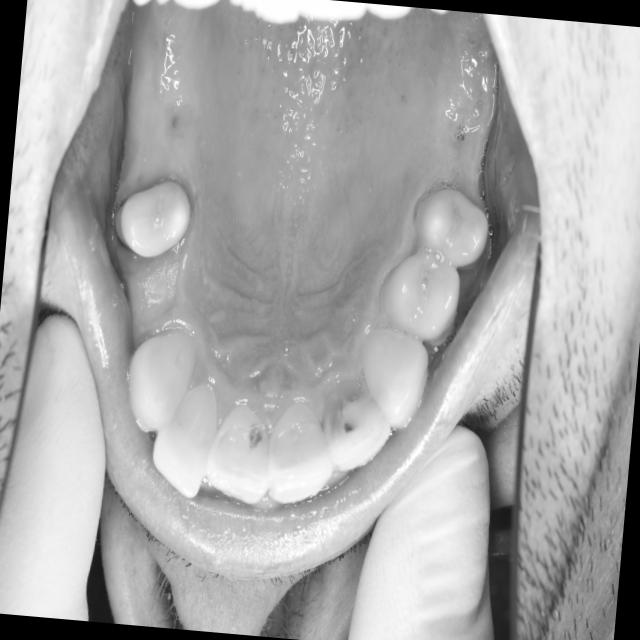tooth: (139, 368, 229, 512), (371, 229, 467, 353), (346, 311, 436, 439), (114, 316, 202, 441), (198, 388, 284, 512), (399, 171, 497, 279), (311, 367, 398, 484), (260, 392, 340, 514), (102, 173, 199, 266)
